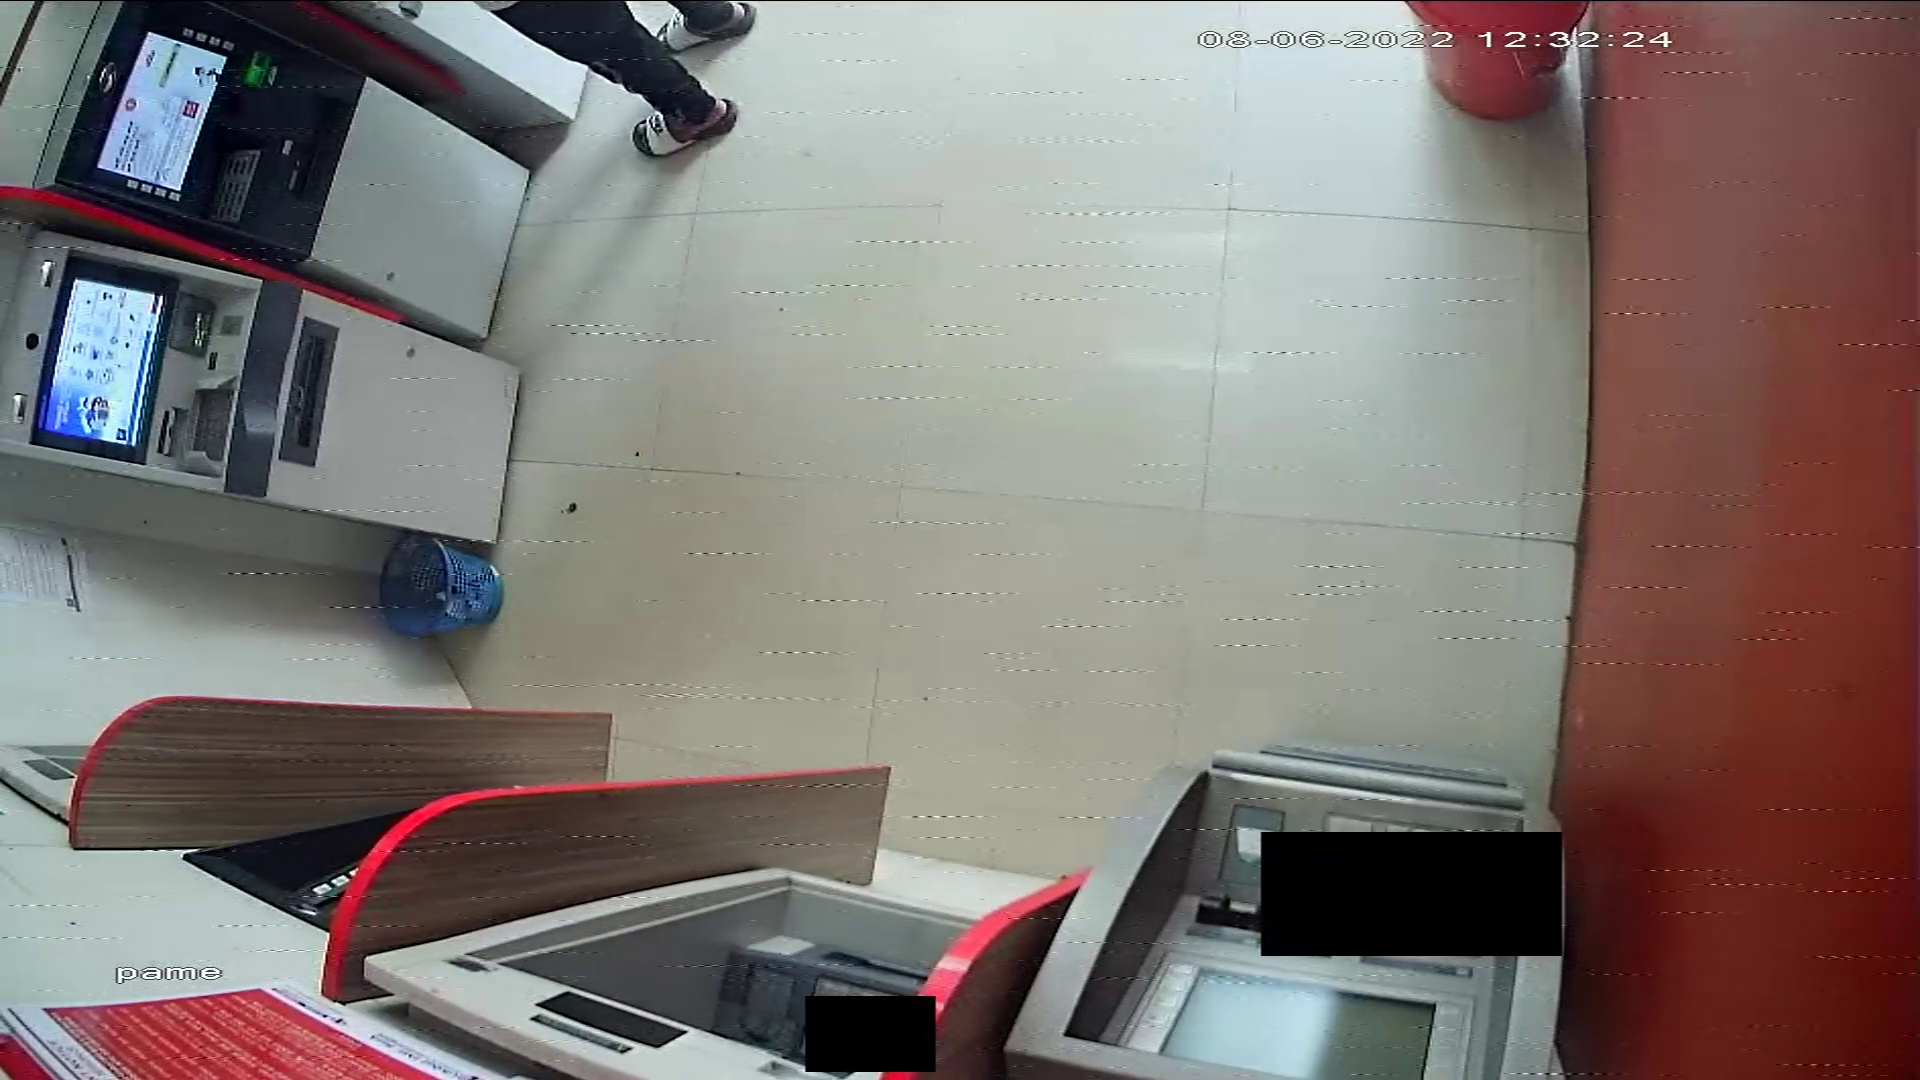person: (476, 3, 773, 155)
